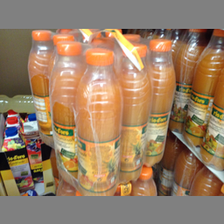juice: (76, 47, 123, 195), (119, 41, 154, 183), (49, 42, 81, 176)
